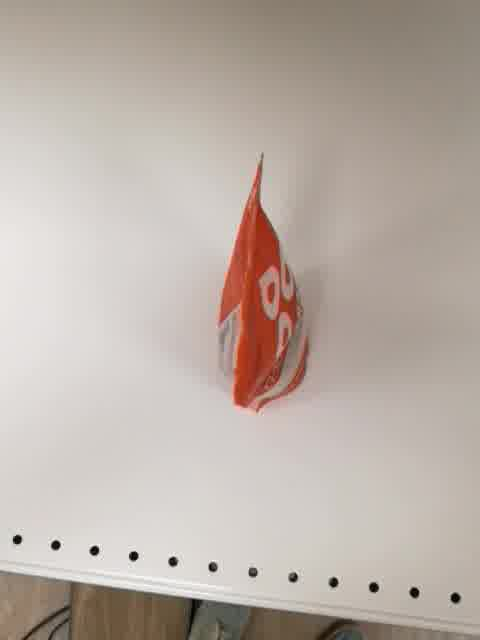whitechia: (208, 149, 314, 416)
